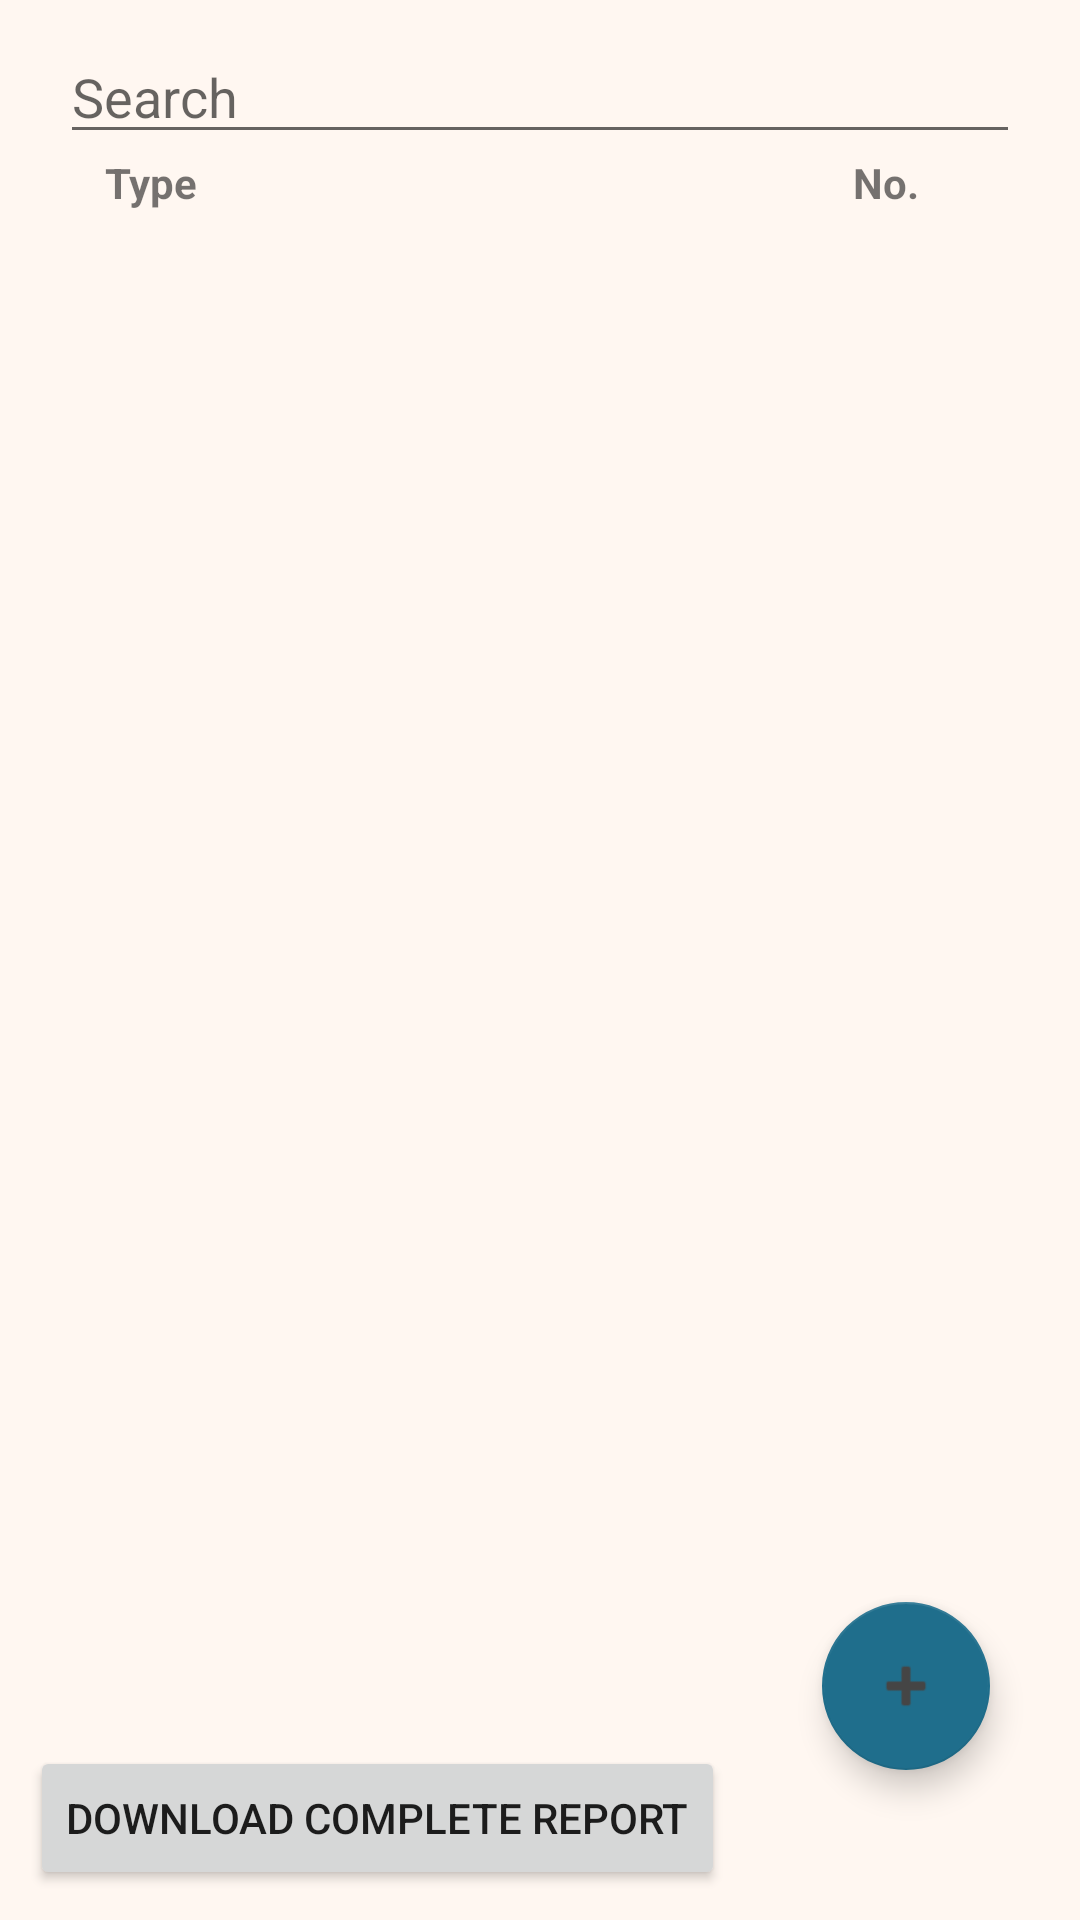

Point at icon controls on the screen. Image size 1080px×1920px, points as point (x, y).
add: point (906, 1686)
